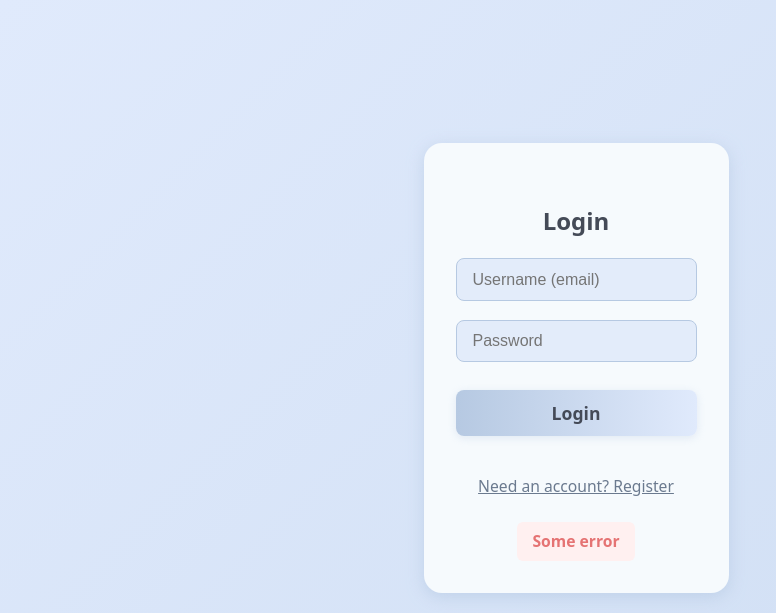
Test: LoginForm › clears fields and errors when toggling to register
Note: Fill fields and show error
Type "notanemail" into the field with placeholder "Username (email)" at (576, 280), box left=456, top=258, right=696, bottom=301
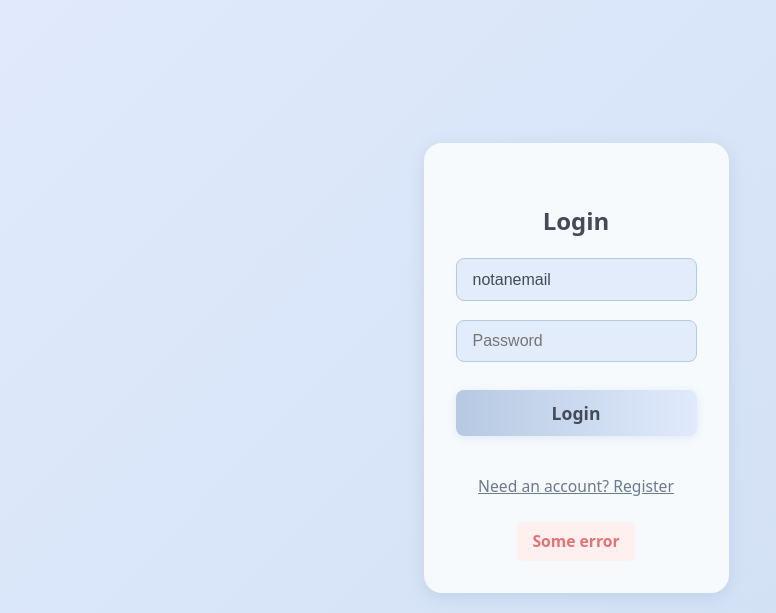
Type "pw" into the password field with placeholder "Password" at (576, 341), box left=456, top=320, right=696, bottom=362
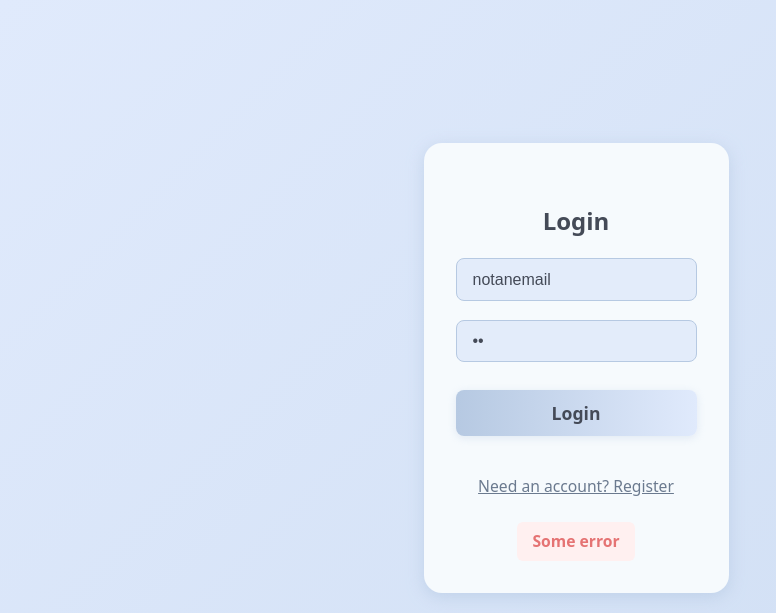
Note: Simulate error by submitting invalid email
Submit the form with test id "login-form" showing "Login", box left=456, top=258, right=696, bottom=436
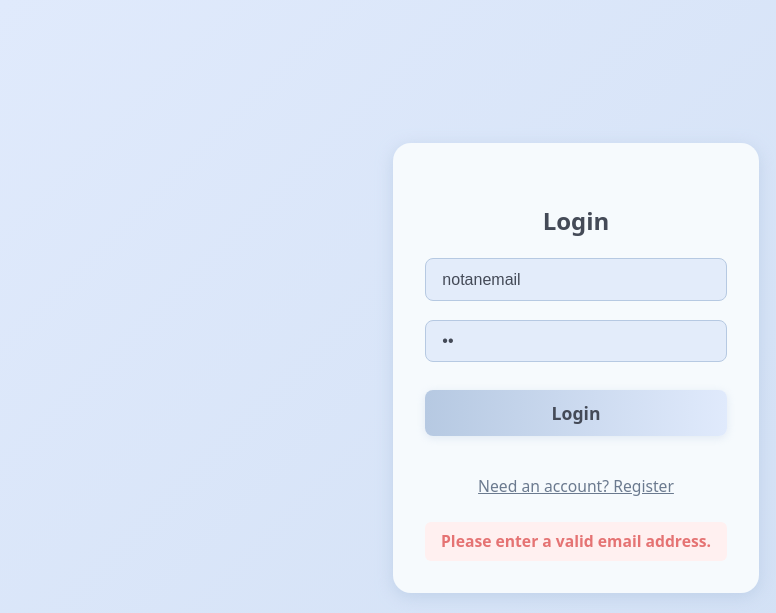
Result: the text "Please enter a valid email address." is shown at left=425, top=522, right=727, bottom=561
Note: Toggle to register
Click the button "Need an account? Register" at (576, 486), box left=459, top=466, right=693, bottom=506
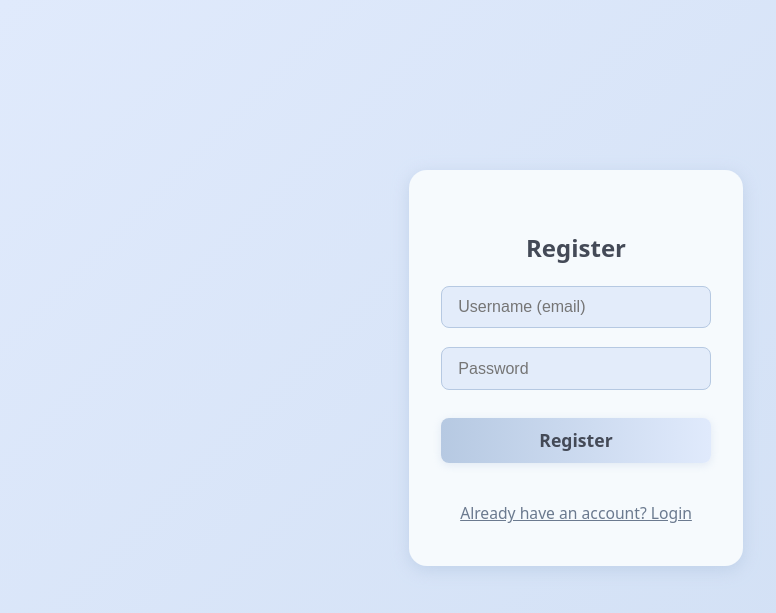
Result: the field with placeholder "Username (email)" is empty at left=441, top=286, right=711, bottom=328
Result: the password field with placeholder "Password" is empty at left=441, top=348, right=711, bottom=390
Result: the text "valid email" is gone
